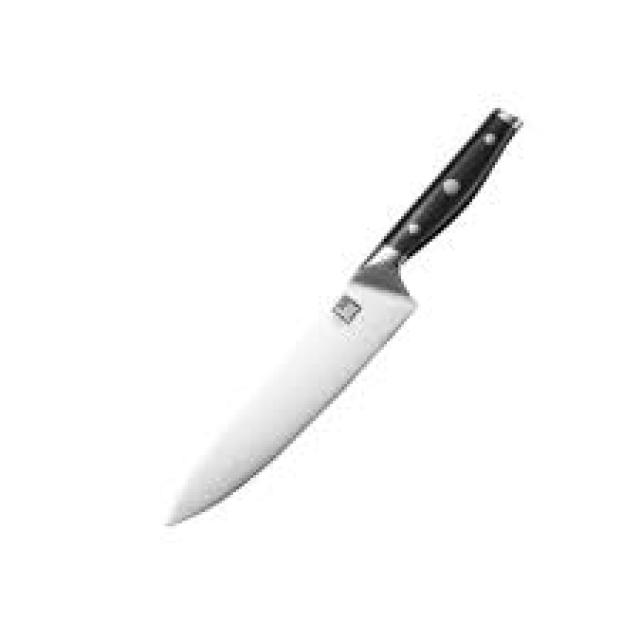Knife: (168, 108, 521, 526)
